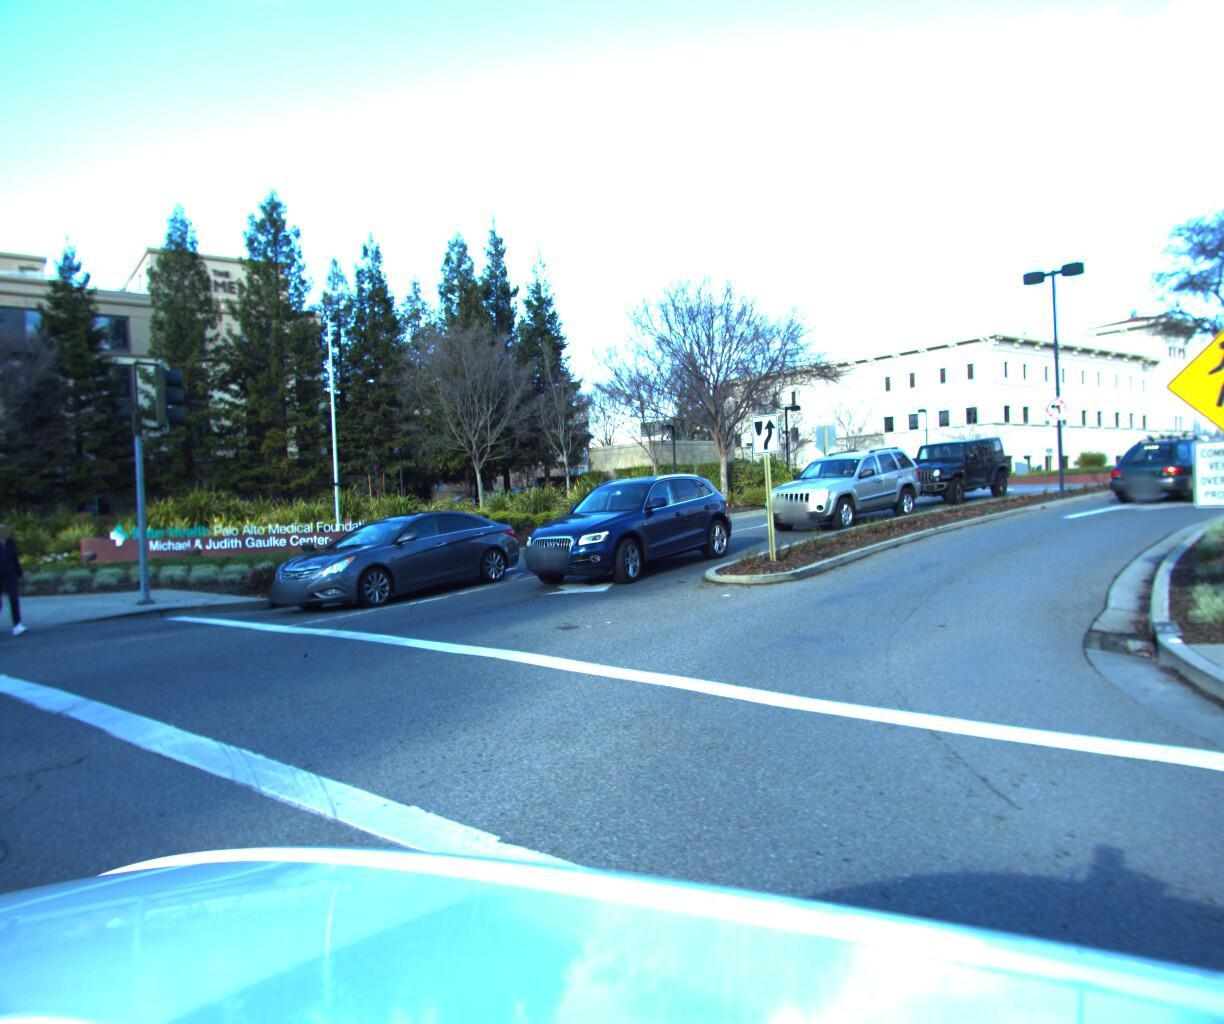car: (247, 499, 531, 612), (496, 467, 746, 587), (748, 435, 933, 533), (877, 427, 1014, 503), (1100, 428, 1224, 501)
